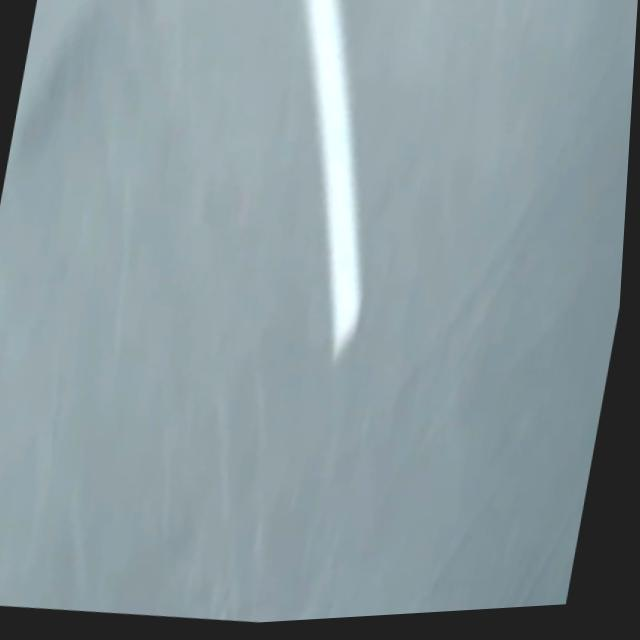center: (303, 0, 360, 360)
